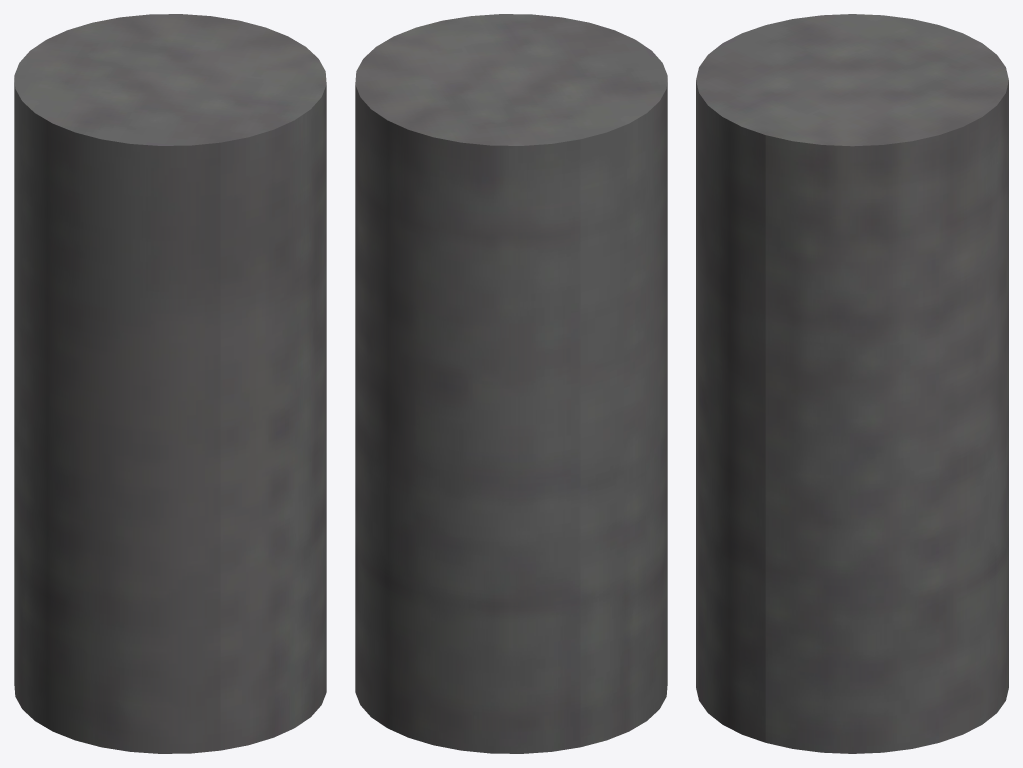
File: frame__seat_pivot_pin_0.glb
3 renders of one model, left to right at view 1: azimuth 30°, elevation 25°; view 2: azimuth 150°, elevation 25°; view 3: azimuth 270°, elevation 25°, orthographic.
Visible parts, largest first — view 1: world; view 2: world; view 3: world.
Part boxes in pixels (x1,y1,x2,y2): world: (14,14,326,753); world: (355,14,667,753); world: (696,14,1008,753).
Bounding box in the file's own units: 0.028 × 0.06 × 0.028.
1 material, 1 textured.
